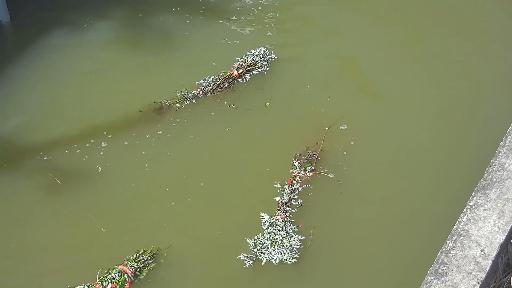twig: (243, 115, 346, 267), (146, 37, 285, 117), (68, 243, 173, 288)
